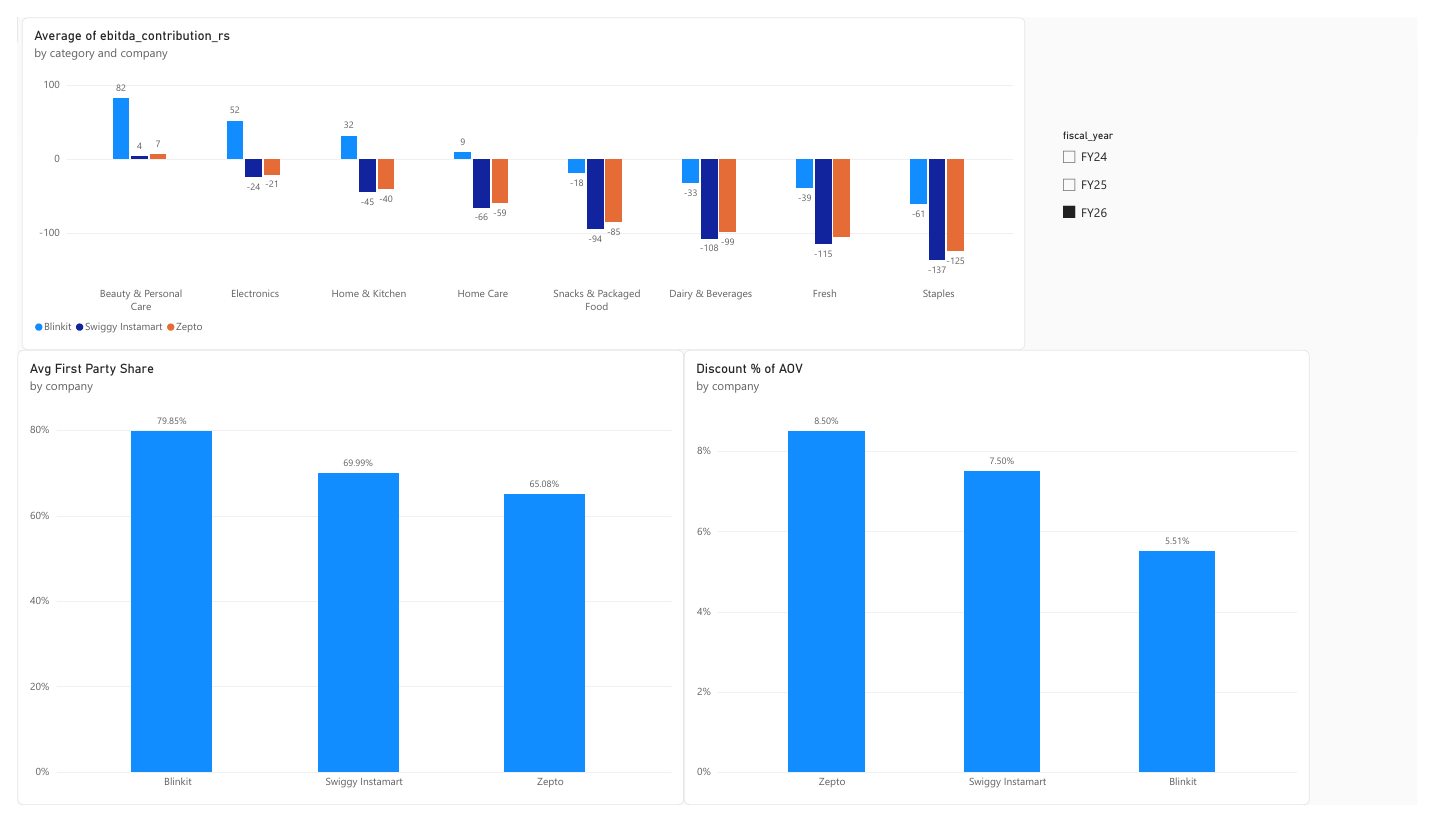

The dashboard page shown, as its layout file describes it:
{"tool":"powerbi","page":{"name":"Avg EBITDA per Order by Category (FY26) Average First-Party Share (FY26) Discount as % of AOV (FY26)","canvas":[1920,1080],"ordinal":3},"visuals":[{"type":"clusteredColumnChart","fields":{"Category":["public fact_orders.company"],"Y":["public fact_orders.Discount % of AOV"]},"box":[914,456,858,624],"z":0},{"type":"slicer","fields":{"Values":["public fact_orders.fiscal_year"]},"box":[1426,154,346,148],"z":1},{"type":"clusteredColumnChart","fields":{"Category":["public fact_orders.company"],"Y":["public fact_orders.Avg First Party Share"]},"box":[0,456,914,624],"z":2},{"type":"clusteredColumnChart","fields":{"Category":["public fact_orders.category"],"Series":["public fact_orders.company"],"Y":["Avg(public fact_orders.ebitda_contribution_rs)"]},"box":[6,0,1376,456],"z":3}]}

Visuals, with their boxes in screenshot pixels (x1, y1, x2, y2), scaled from the page's 1920x1080 canvas onto the 1435x823 screenshot:
clusteredColumnChart - public fact_orders.company x public fact_orders.Discount % of AOV: region(683, 347, 1324, 822)
slicer - public fact_orders.fiscal_year: region(1066, 117, 1324, 230)
clusteredColumnChart - public fact_orders.company x public fact_orders.Avg First Party Share: region(0, 347, 683, 822)
clusteredColumnChart - public fact_orders.category x public fact_orders.company: region(4, 0, 1033, 347)
